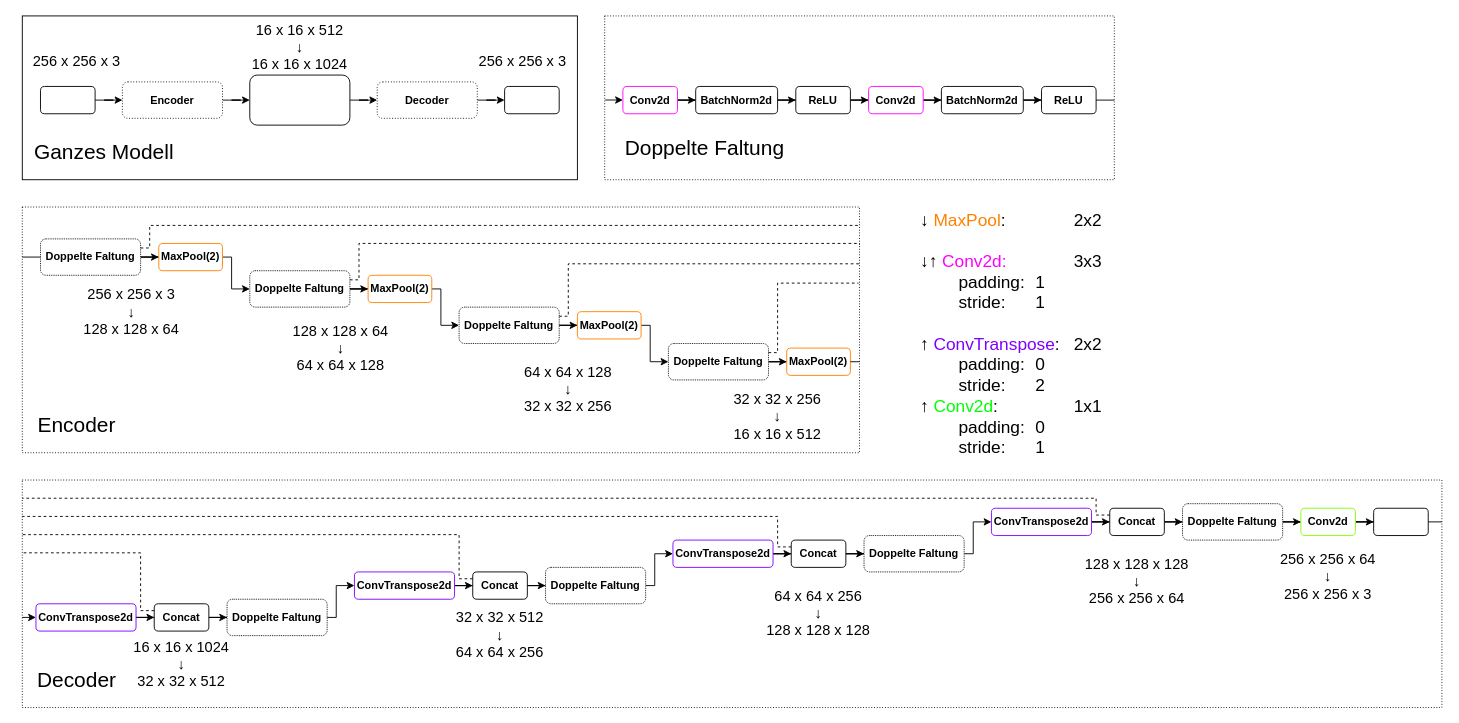
This 1459x723 diagram has some shape labels left out. Each missing label, with the centre of its shape:
"Doppelte Faltung (Bottleneck)" goes at pixel 299 99.
"Input" goes at pixel 67 100.
"Output" goes at pixel 531 100.
"Sigmoid" goes at pixel 1400 521.
